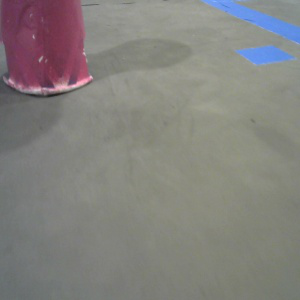middle: (1, 1, 93, 95)
